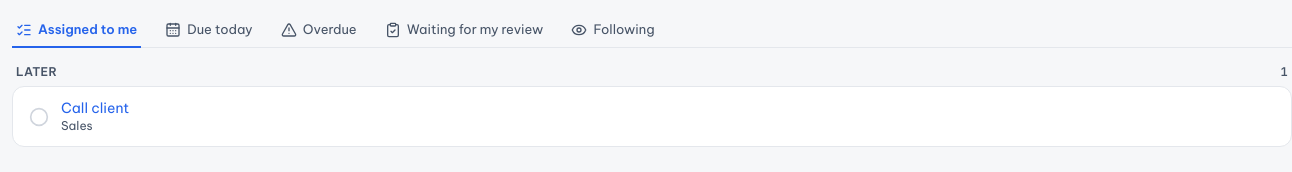
Test: MyTasksScreen › switches to today's tasks
Check: the link "Call client" is shown, box [61, 99, 129, 117]
Click the tab "Due today". click: (209, 30)
box: [161, 13, 257, 48]
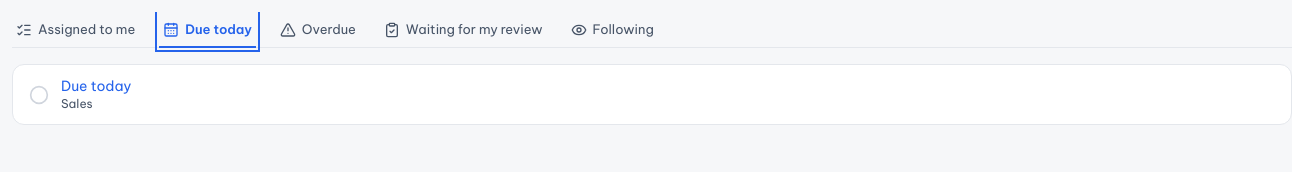
Check: the link "Due today" is shown, box [61, 77, 131, 95]
Check: the link "Call client" is gone
